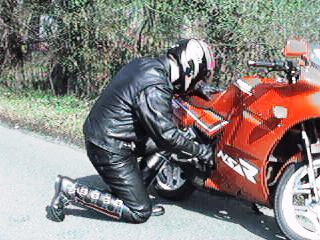helmet: (172, 32, 216, 92)
